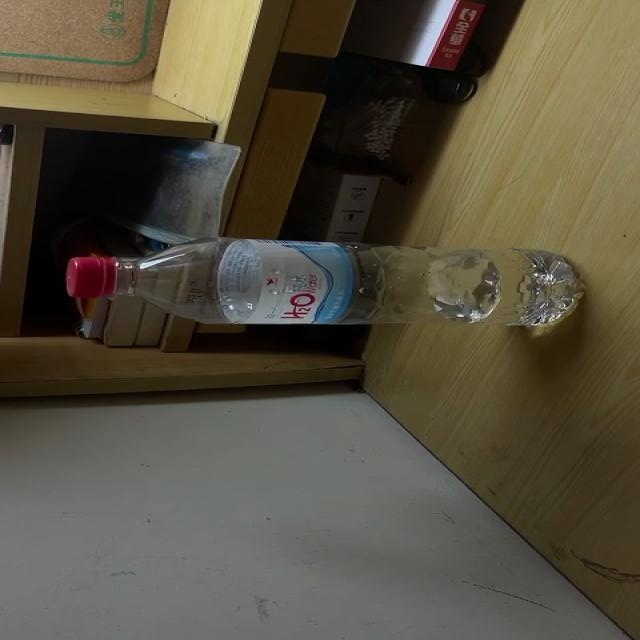Water: (64, 240, 584, 328)
